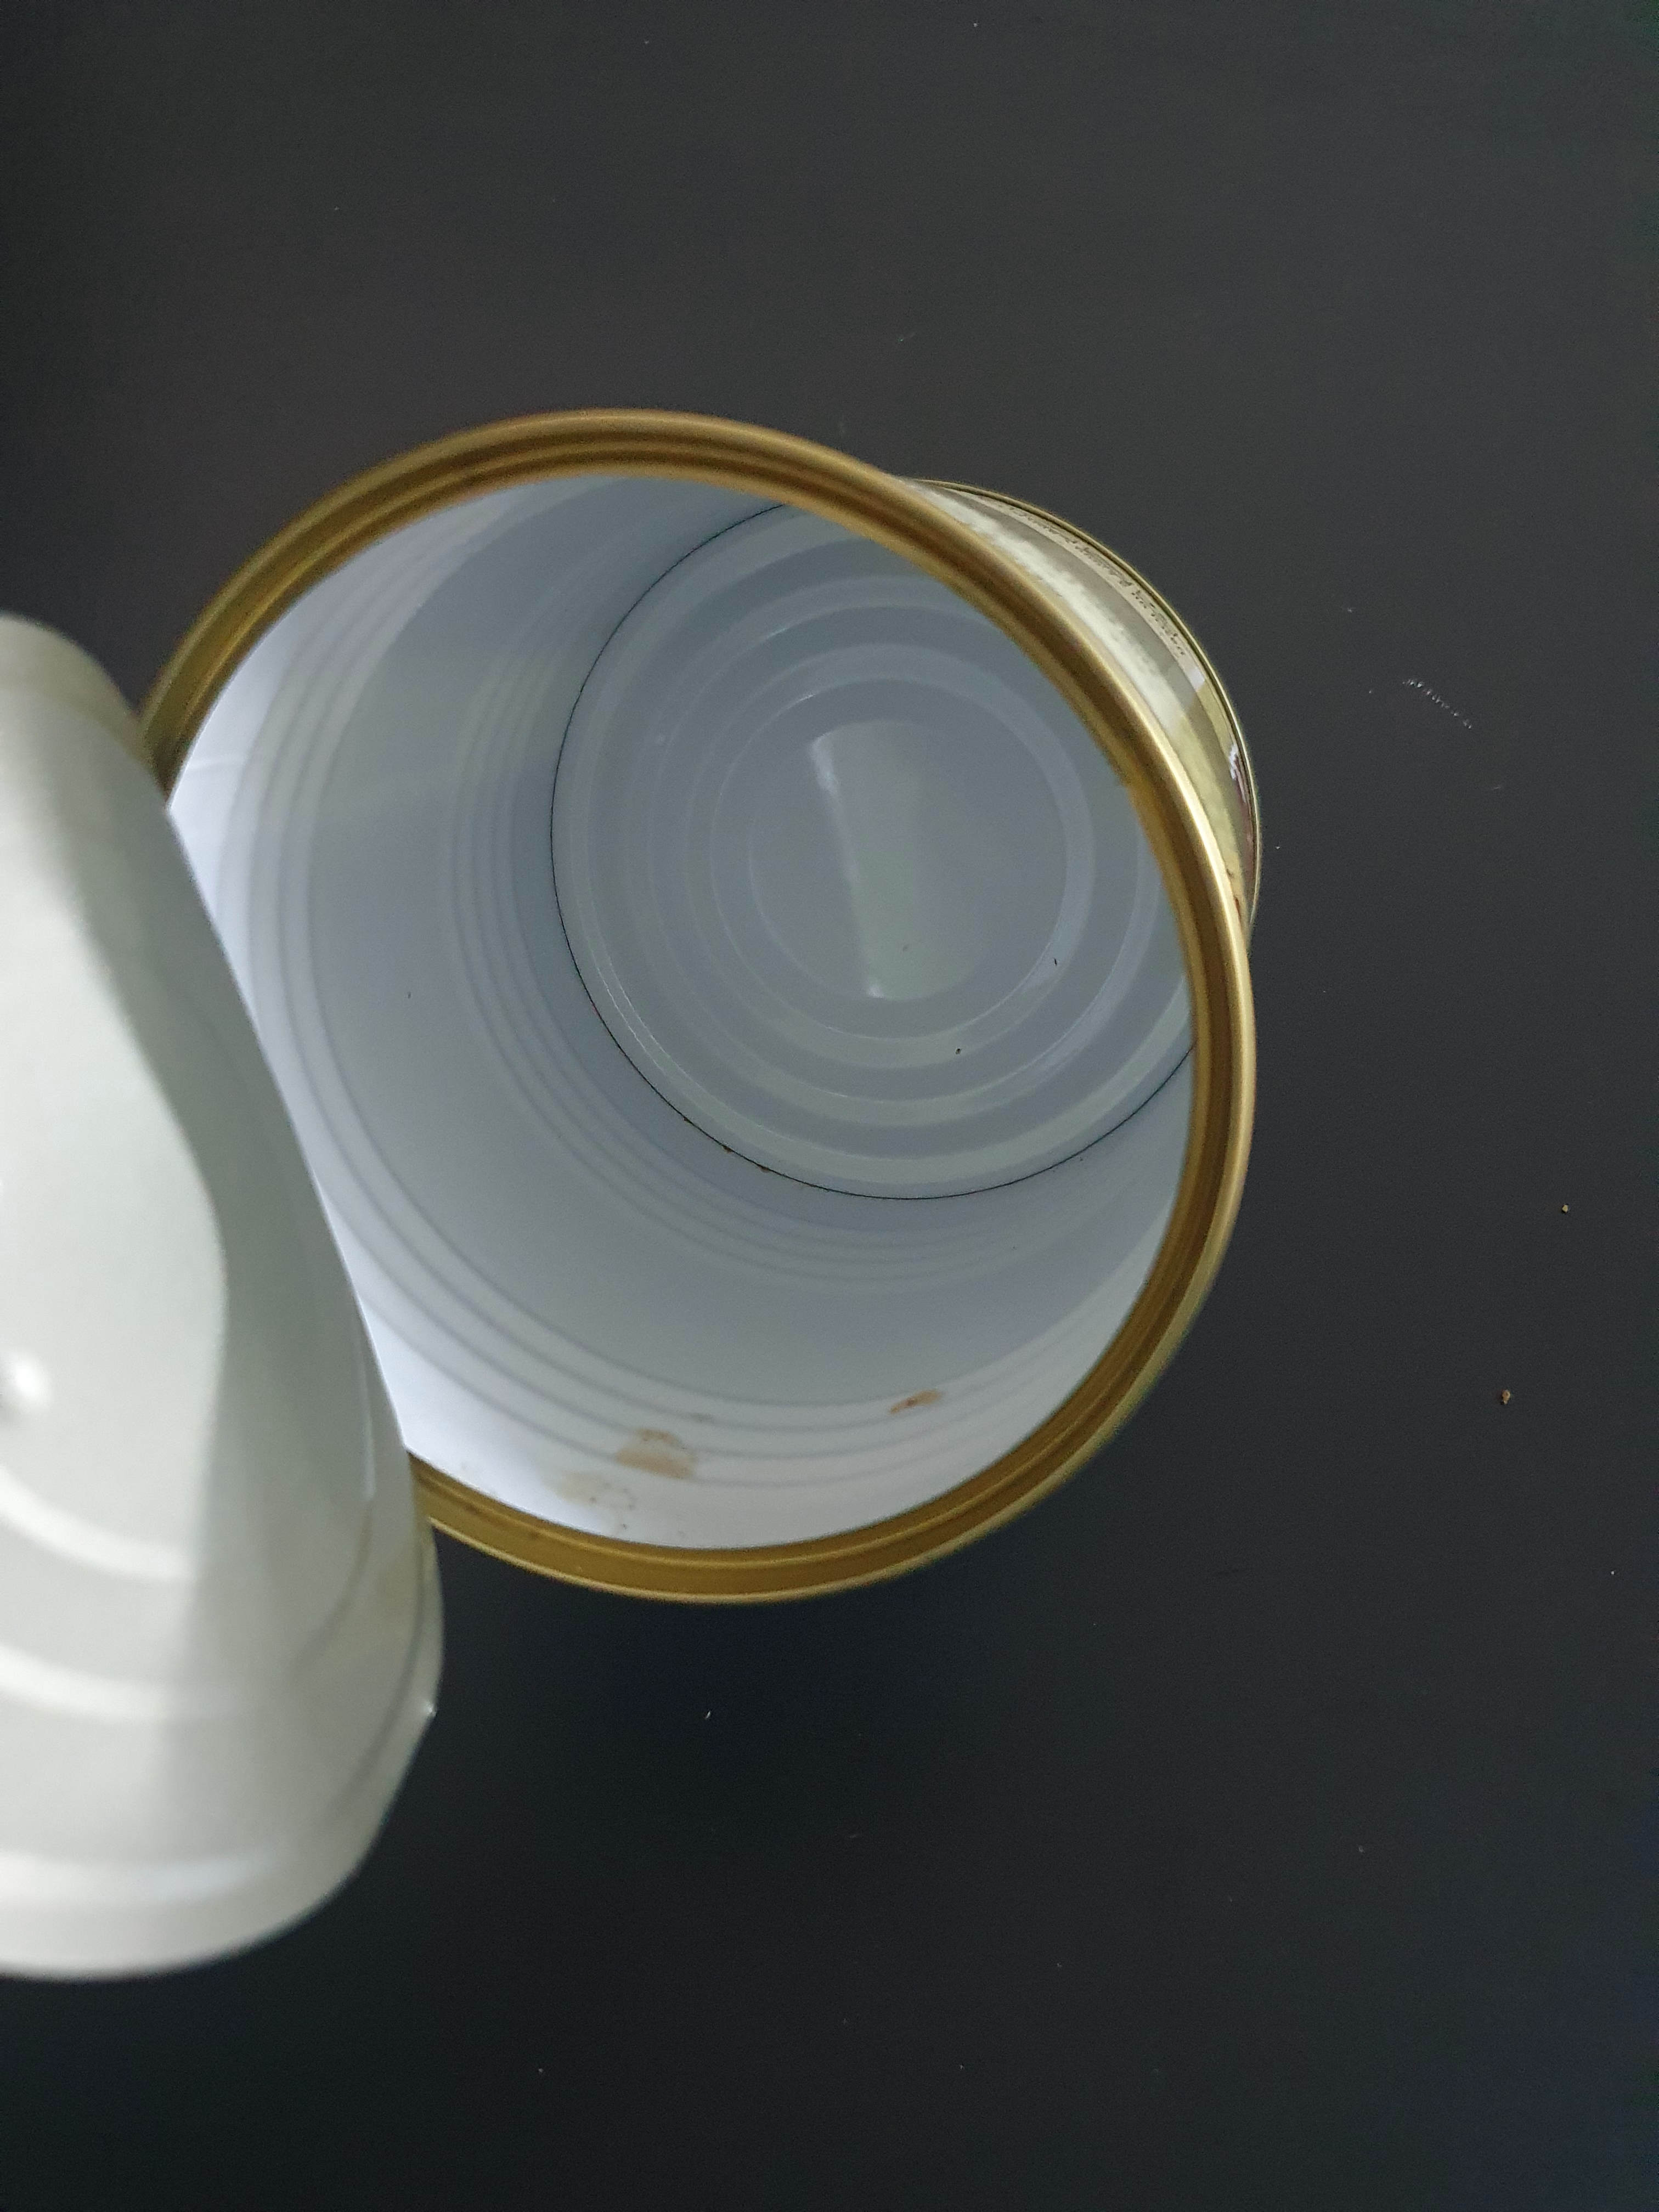metal: (3, 298, 1288, 2031)
